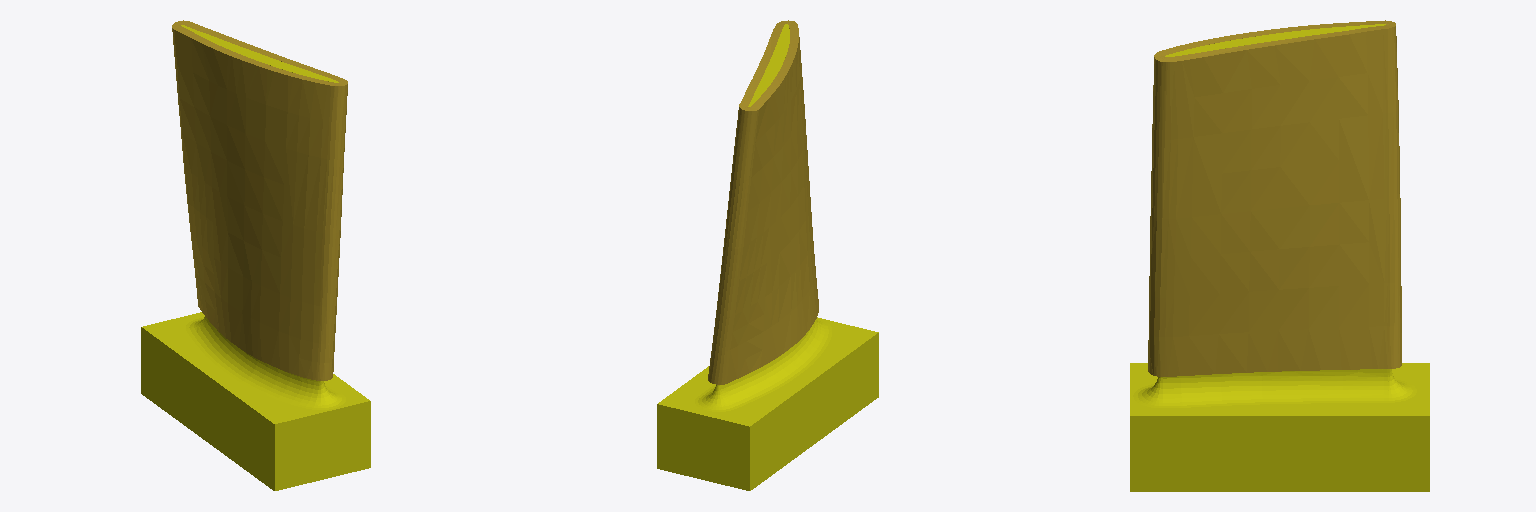
robot.urdf — 6061_C_continue:
<?xml version="1.0" encoding="utf-8"?>
<!-- This URDF was automatically created by SolidWorks to URDF Exporter! Originally created by Stephen Brawner (brawner@gmail.com) 
     Commit Version: 1.6.0-4-g7f85cfe  Build Version: 1.6.7995.38578
     For more information, please see http://wiki.ros.org/sw_urdf_exporter -->
<robot
  name="6061_C_continue">
  <link
    name="base_link">
    <inertial>
      <origin
        xyz="-0.00016223 -0.0011466 0.051783"
        rpy="0 0 0" />
      <mass
        value="0.61008" />
      <inertia
        ixx="0.0026194"
        ixy="1.9168E-05"
        ixz="1.1401E-06"
        iyy="0.0018473"
        iyz="6.9143E-05"
        izz="0.0010658" />
    </inertial>
    <visual>
      <origin
        xyz="0 0 0"
        rpy="0 0 0" />
      <geometry>
        <mesh
          filename="package://6061_C_continue/meshes/base_link_new.STL" />
      </geometry>
      <material
        name="base">
        <color
          rgba="0.8 0.8 0.1 0.5" />
      </material>
    </visual>
    <collision>
      <origin
        xyz="0 0 0"
        rpy="0 0 0" />
      <geometry>
        <mesh
          filename="package://6061_C_continue/meshes/base_link.obj" />
      </geometry>
    </collision>
  </link>
  <link
    name="Link_1">
    <inertial>
      <origin
        xyz="3.4238E-05 -0.0028506 0.13944"
        rpy="0 0 0" />
      <mass
        value="0.20989" />
      <inertia
        ixx="0.00076292"
        ixy="4.6592E-05"
        ixz="5.4524E-06"
        iyy="0.000535"
        iyz="8.4658E-07"
        izz="0.00026665" />
    </inertial>
    <visual>
      <origin
        xyz="0 0 0"
        rpy="0 0 0" />
      <geometry>
        <mesh
          filename="package://6061_C_continue/meshes/Link_1.STL" />
      </geometry>
      <material
        name="Link_1">
        <color
          rgba="0.7 0.6 0.2 0.1" />
      </material>
    </visual>
  </link>
  <joint
    name="joint_1"
    type="fixed">
    <origin
      xyz="0 0 0"
      rpy="0 0 0" />
    <parent
      link="base_link" />
    <child
      link="Link_1" />
    <axis
      xyz="0 0 0" />
  </joint>
</robot>

--- Render facts (derived) ---
The picture shows the robot from 3 angles, left to right: view 1: azimuth 30°, elevation 25°; view 2: azimuth 150°, elevation 25°; view 3: azimuth 270°, elevation 25°; orthographic projection.
Robot: 6061_C_continue — 2 links, 1 joints (1 fixed); root link base_link; default pose: every joint at zero.
Links seen in each view (by area): view 1: Link_1, base_link; view 2: Link_1, base_link; view 3: Link_1, base_link.
Link boxes in pixels (left/top/right/bottom): Link_1: left=172, top=20, right=347, bottom=380; base_link: left=141, top=25, right=370, bottom=490; Link_1: left=708, top=20, right=818, bottom=384; base_link: left=657, top=24, right=878, bottom=490; Link_1: left=1148, top=20, right=1401, bottom=376; base_link: left=1130, top=24, right=1429, bottom=491.
Size in the robot's own frame: 0.06 by 0.144 by 0.2259 metres.
Meshes: 2 distinct files referenced, 2 mesh visuals loaded (2 binary STL).
